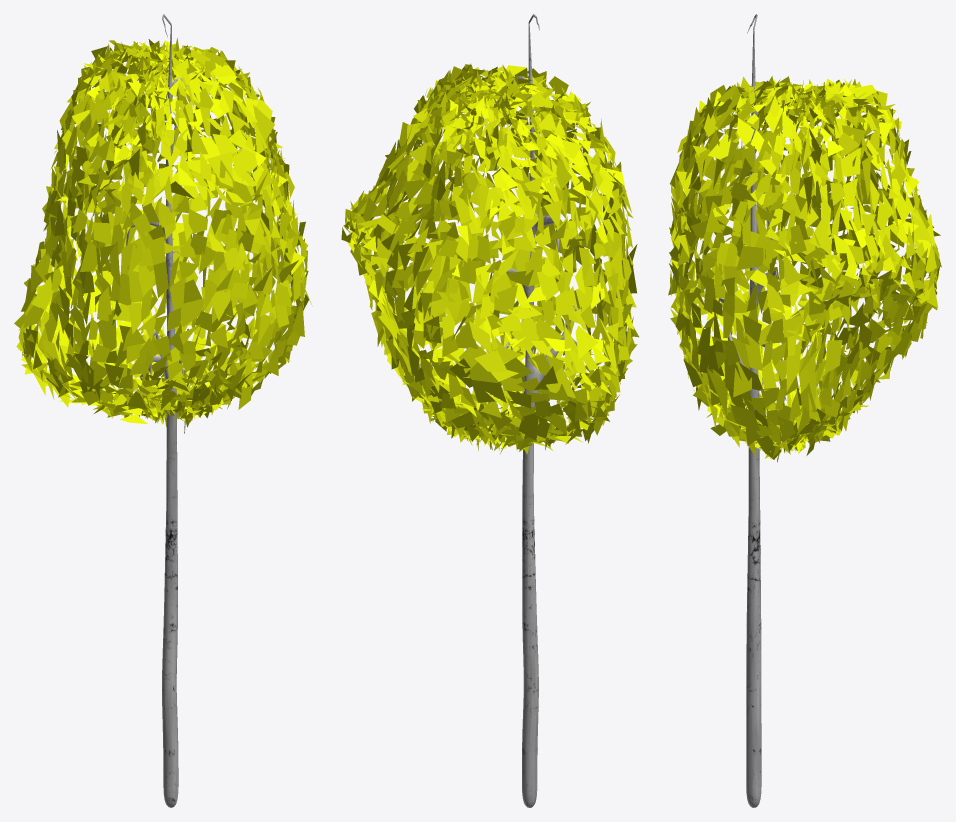
The model's file is Leaves52.001.fbx.
The picture shows the model from 3 angles, left to right: view 1: azimuth 30°, elevation 25°; view 2: azimuth 150°, elevation 25°; view 3: azimuth 270°, elevation 25°; orthographic projection.
Parts seen in each view (by area): view 1: Leaves52.001; view 2: Leaves52.001; view 3: Leaves52.001.
Boxes of the visible parts, x1,y1,x2,y2 form: Leaves52.001: [14, 14, 312, 807]; Leaves52.001: [341, 14, 638, 807]; Leaves52.001: [668, 14, 941, 807].
Size of the model in its own units: 903 by 2612 by 820.
2 materials, 1 textured.
